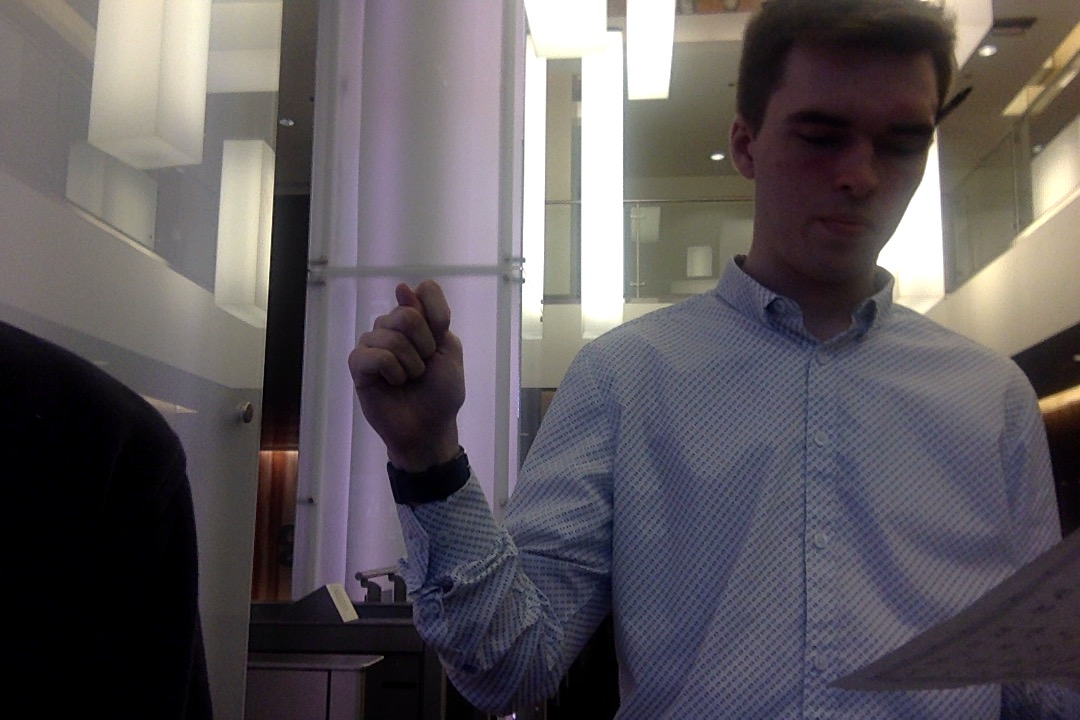t: (342, 274, 476, 464)
